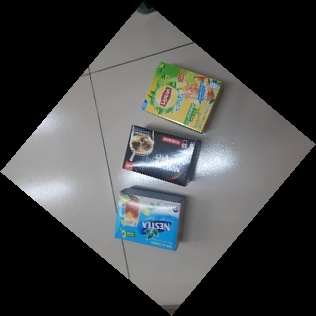CF Viet: (123, 124, 201, 187)
LipTon: (141, 61, 224, 134)
Nestea: (114, 188, 185, 250)
